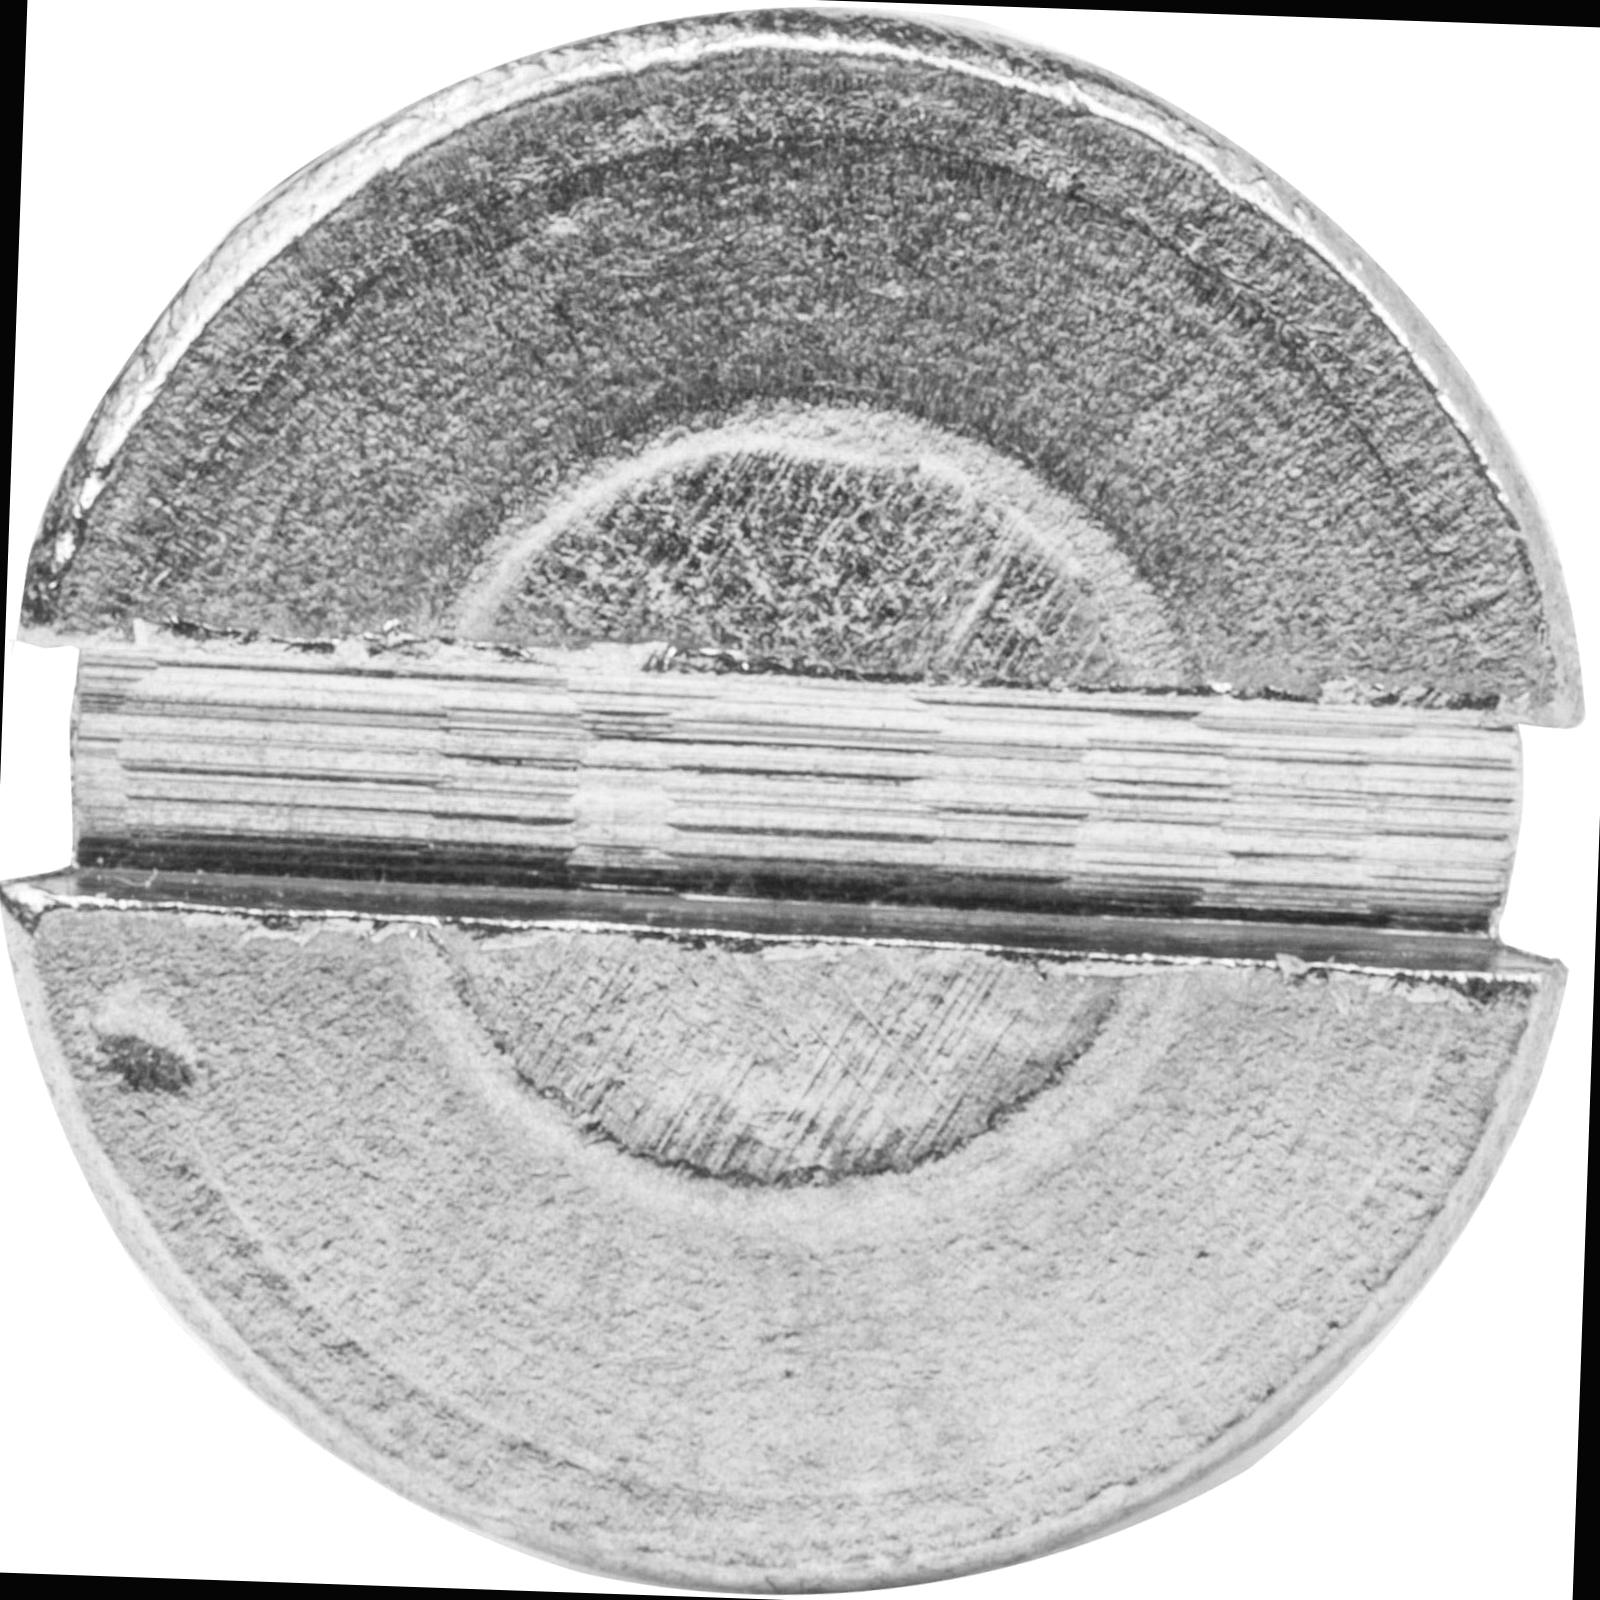slotted: (0, 0, 1599, 1593)
